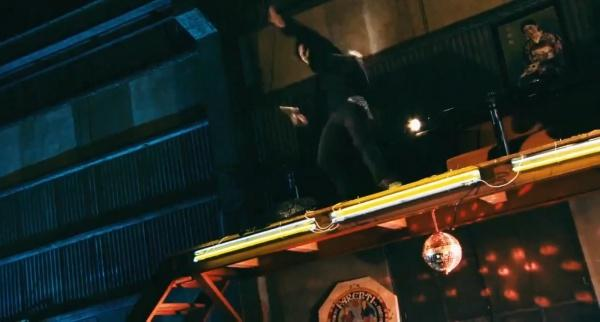Gun: (276, 104, 300, 126)
